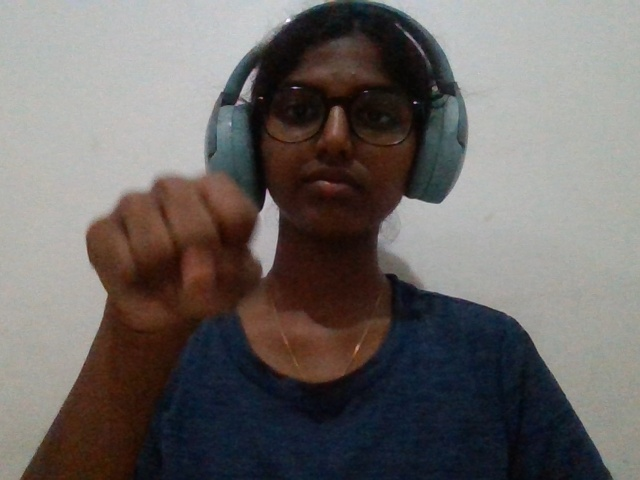Yes: (68, 154, 277, 395)
